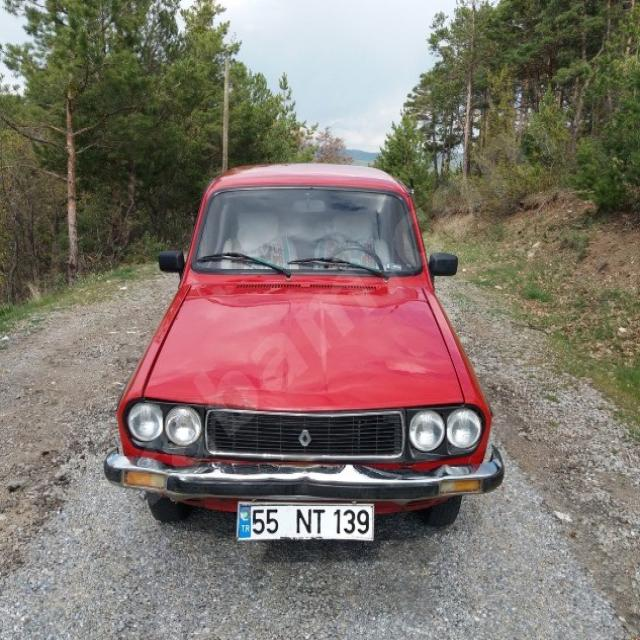license_plate: (238, 505, 372, 539)
